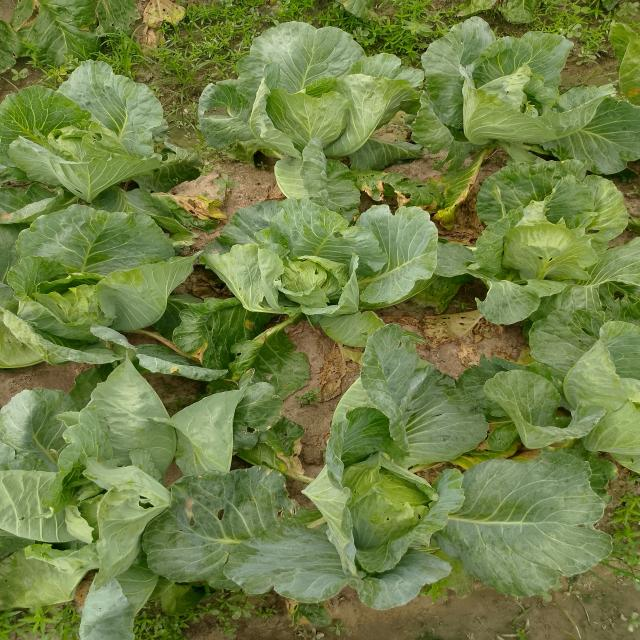Cabbage: (6, 375, 317, 638), (285, 389, 577, 609), (396, 3, 640, 165), (190, 160, 416, 328), (169, 25, 381, 184), (456, 160, 640, 314), (6, 213, 177, 356), (6, 64, 167, 187)
